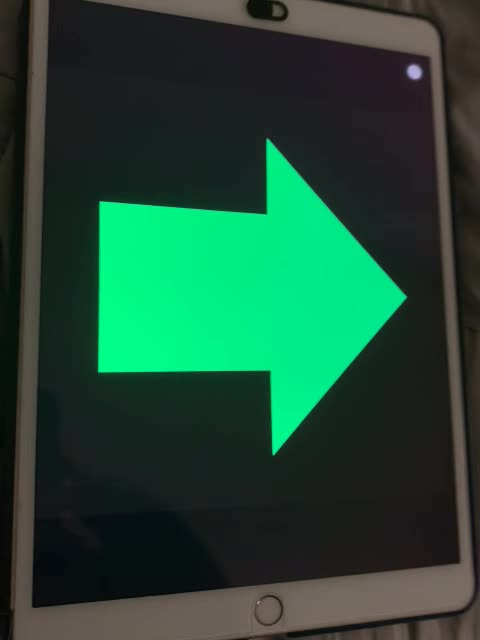right: (96, 133, 410, 462)
